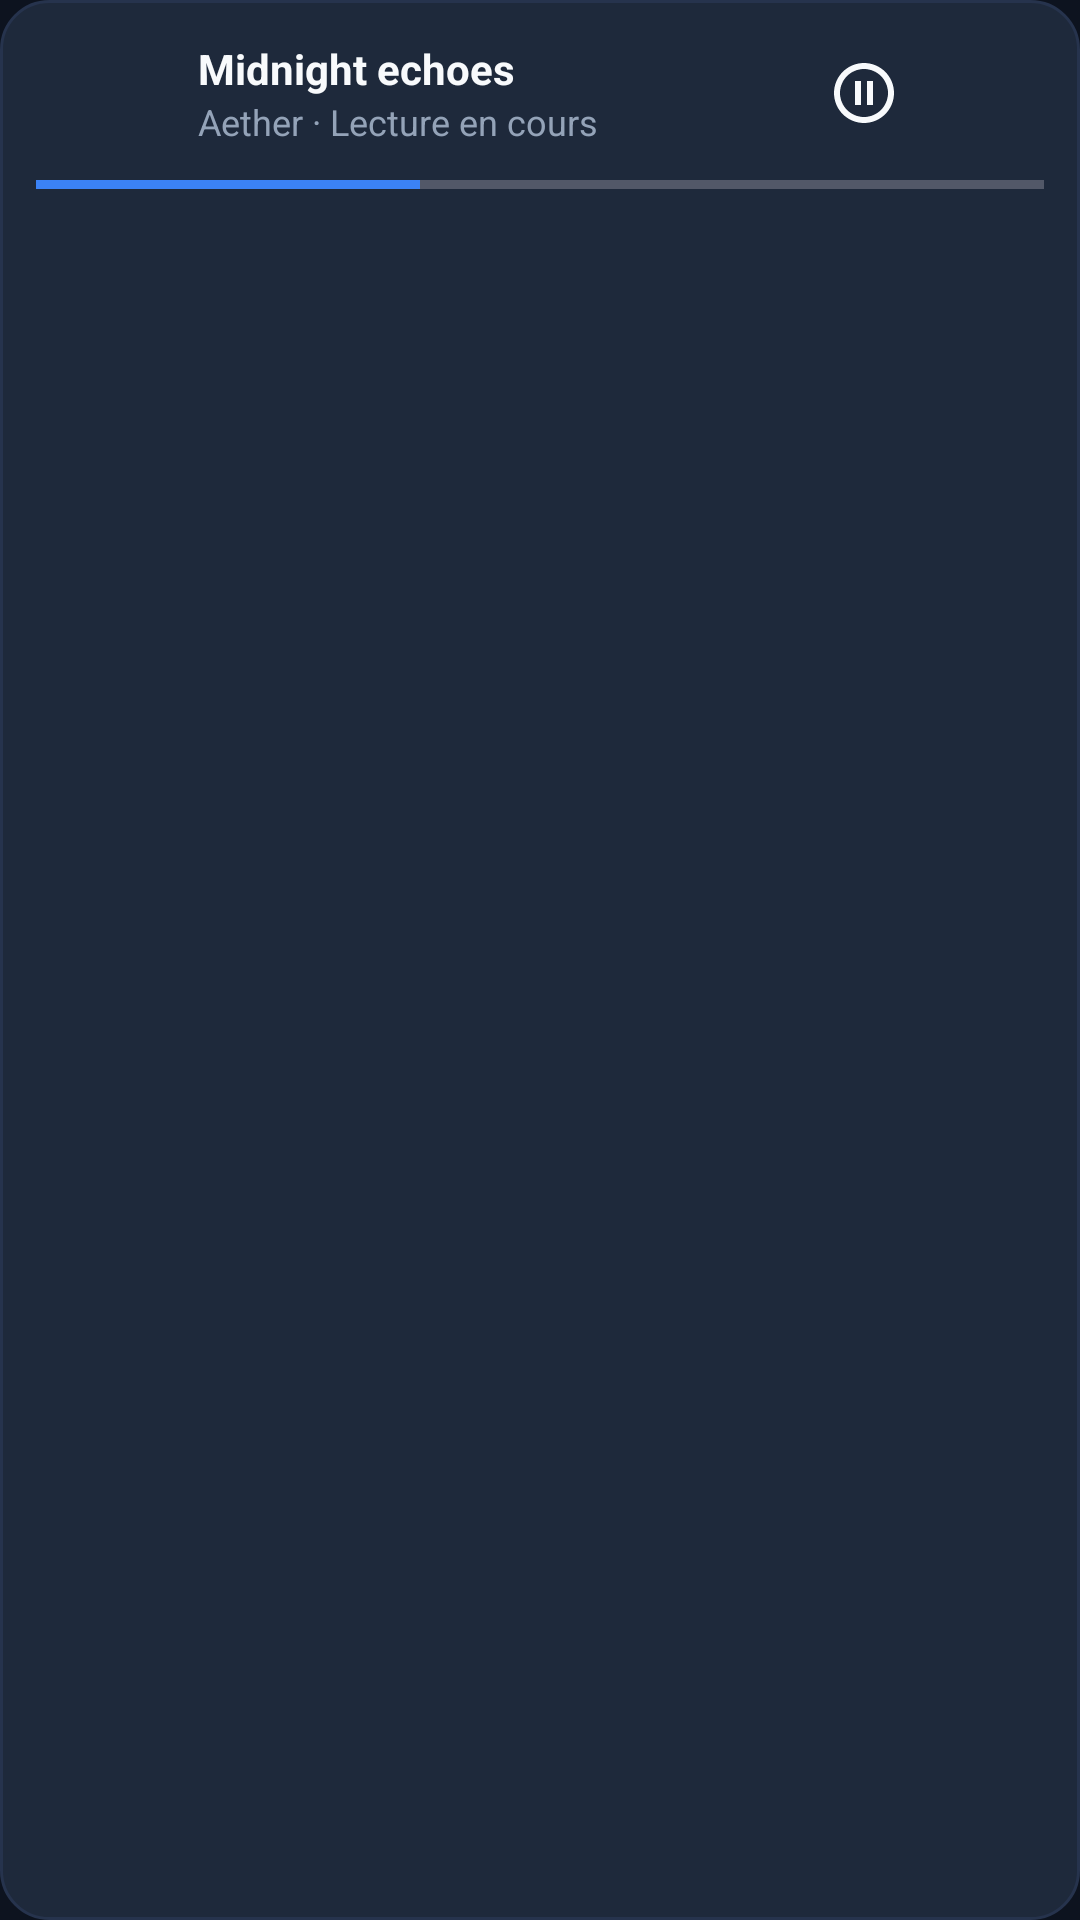

Icons on this 1080*1920 Android screen, each with its box as (x1, y1, x2, y2):
pause: (834, 63, 894, 123)
